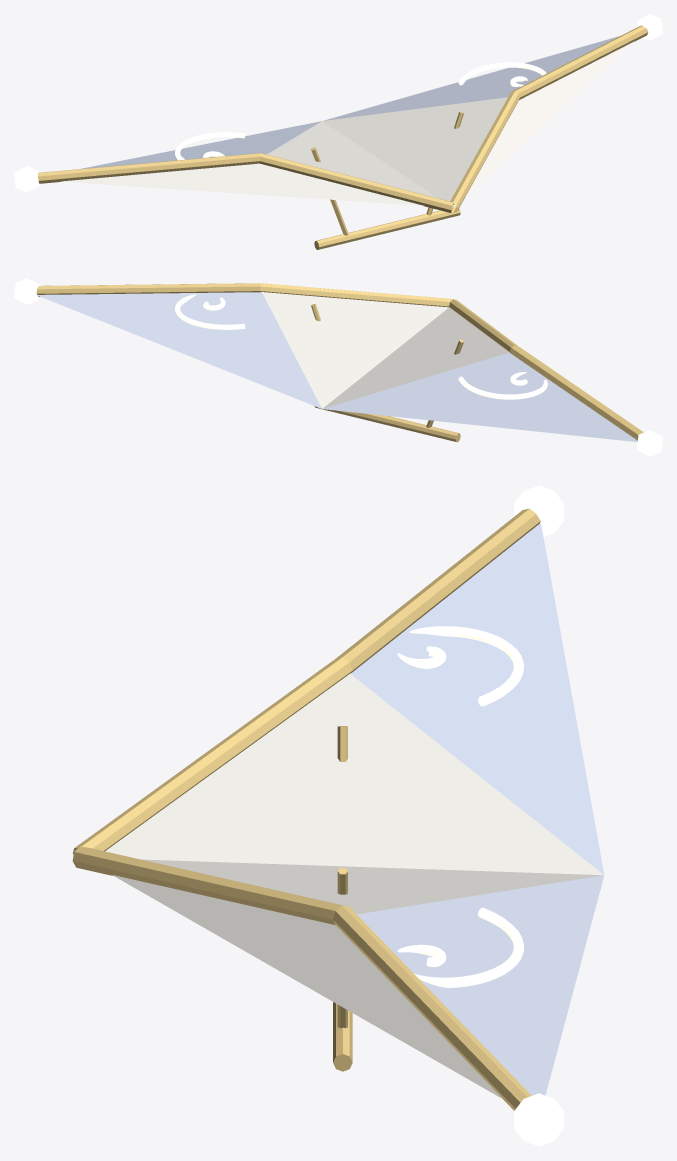
The model's file is glider.glb.
The picture shows the model from 3 angles, top to bottom: view 1: azimuth 30°, elevation 25°; view 2: azimuth 150°, elevation 25°; view 3: azimuth 270°, elevation 25°; orthographic projection. The views are drawn at different scales.
Visible parts, largest first — view 1: glider; view 2: glider; view 3: glider.
Boxes of the visible parts, x1,y1,x2,y2 form: glider: (14,14,662,249); glider: (14,278,662,456); glider: (72,485,604,1146).
Bounding box in the file's own units: 2.28 × 0.373 × 0.8135.
